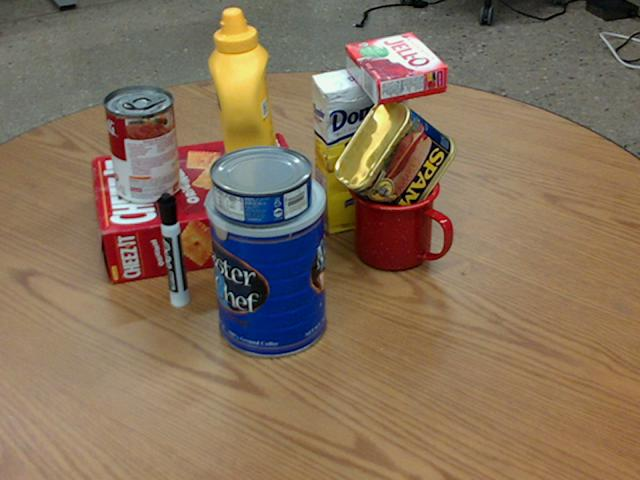cracker_box: (93, 135, 313, 283)
gelatin_box: (345, 33, 446, 104)
large_marker: (158, 194, 190, 307)
master_chef_can: (203, 165, 327, 356)
mug: (350, 163, 453, 271)
mustard_bottle: (208, 7, 283, 210)
potted_meat_can: (333, 97, 455, 223)
sugar_box: (312, 60, 408, 236)
tomato_soup_can: (103, 85, 179, 204)
tuna_fish_can: (209, 144, 312, 225)
